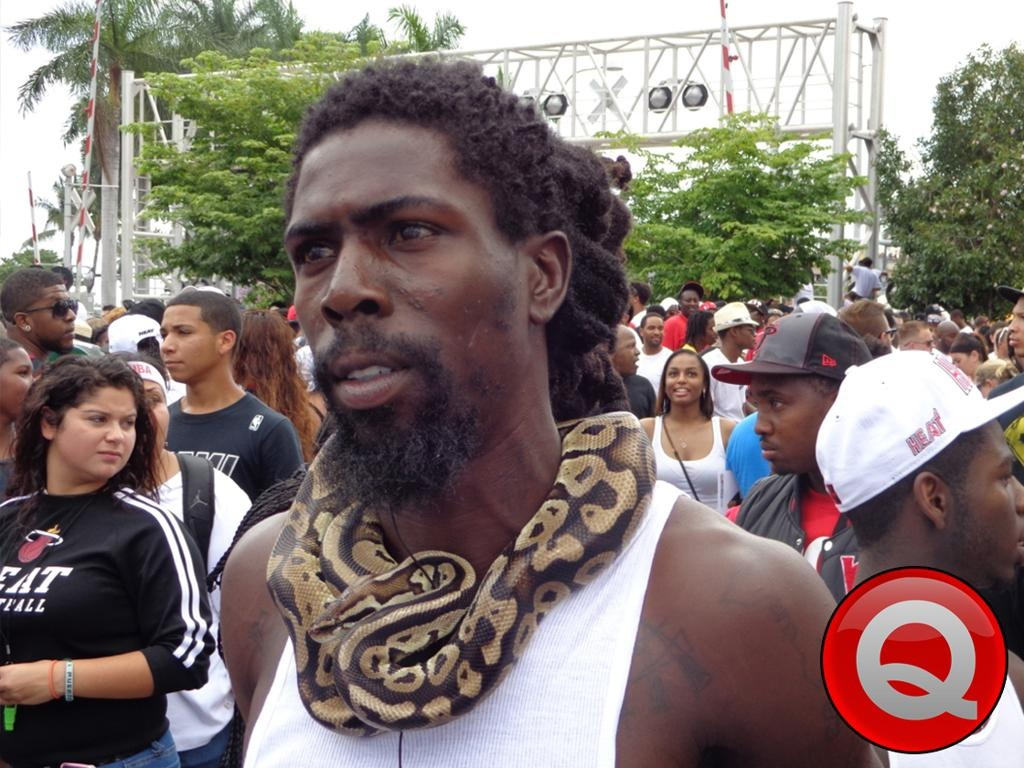human_face: (282, 149, 532, 453), (952, 421, 1020, 587), (60, 387, 136, 481), (748, 374, 818, 476), (116, 379, 170, 461), (158, 304, 200, 384), (30, 284, 76, 352), (2, 348, 38, 422), (662, 358, 704, 406), (614, 335, 640, 377), (731, 319, 759, 351), (1008, 295, 1022, 357), (876, 312, 896, 352), (914, 327, 936, 357), (100, 332, 120, 362), (644, 318, 664, 348), (703, 316, 721, 346), (950, 352, 972, 376), (680, 292, 698, 316), (974, 376, 992, 398), (742, 308, 758, 328), (944, 329, 958, 349), (665, 306, 679, 324), (624, 286, 634, 306), (950, 313, 960, 327), (982, 319, 988, 329)
